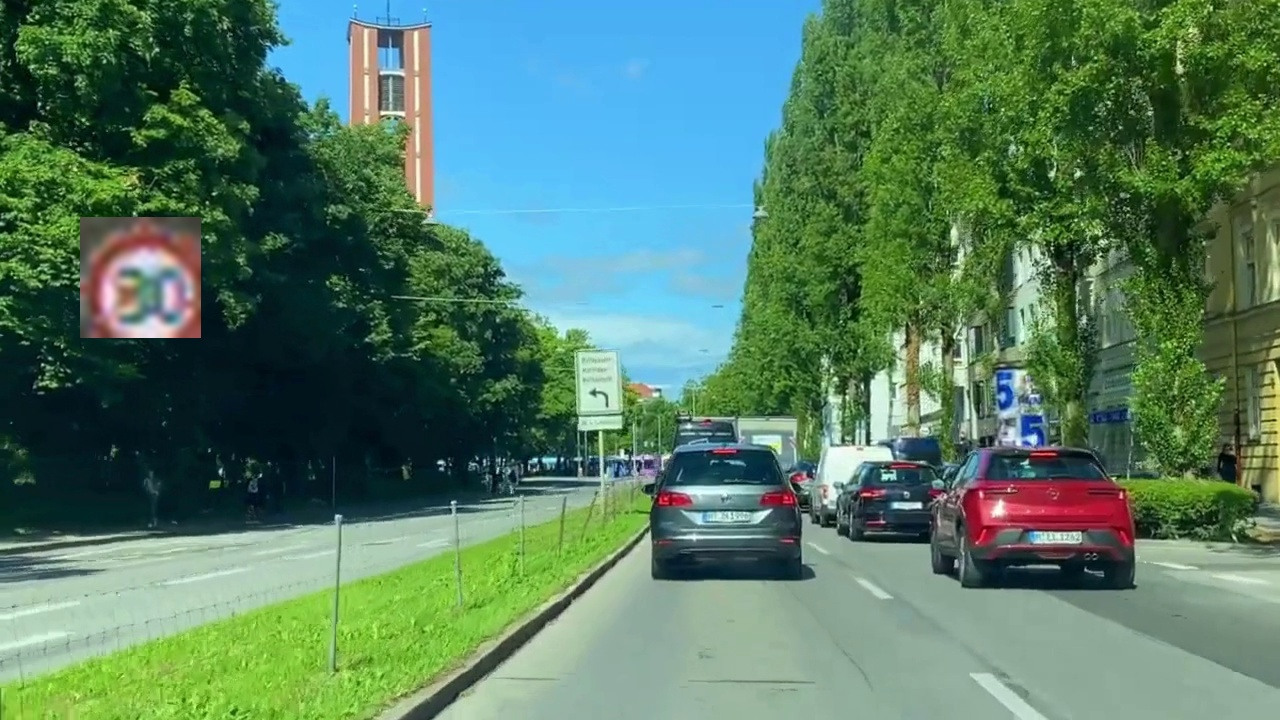Speed 80: (80, 217, 201, 338)
